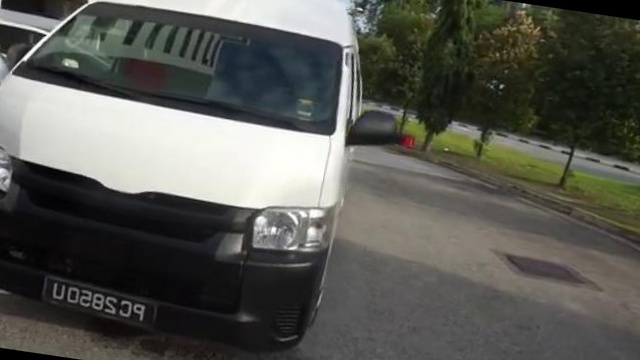van: (0, 0, 395, 360)
